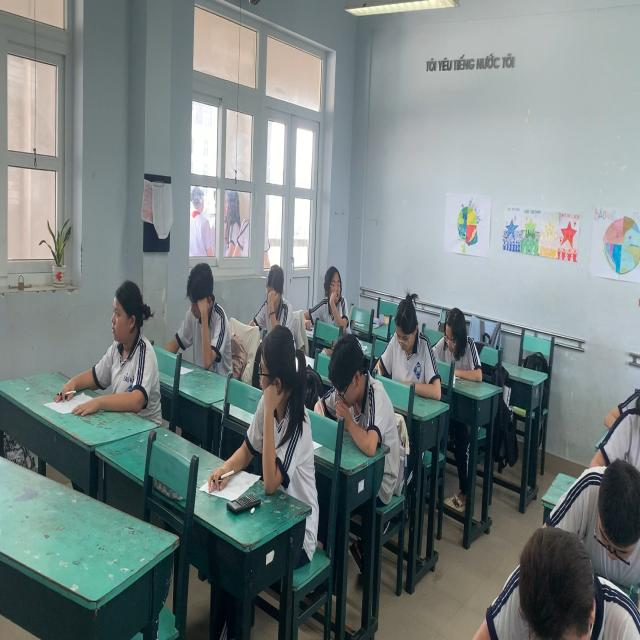cheating: (246, 305, 332, 557), (315, 229, 367, 349)
not_cheating: (473, 505, 640, 640), (85, 198, 172, 434), (329, 304, 415, 503), (179, 205, 245, 396), (569, 432, 640, 602), (389, 284, 454, 442), (439, 264, 500, 422), (256, 214, 310, 353), (596, 364, 640, 510), (603, 284, 640, 436)
